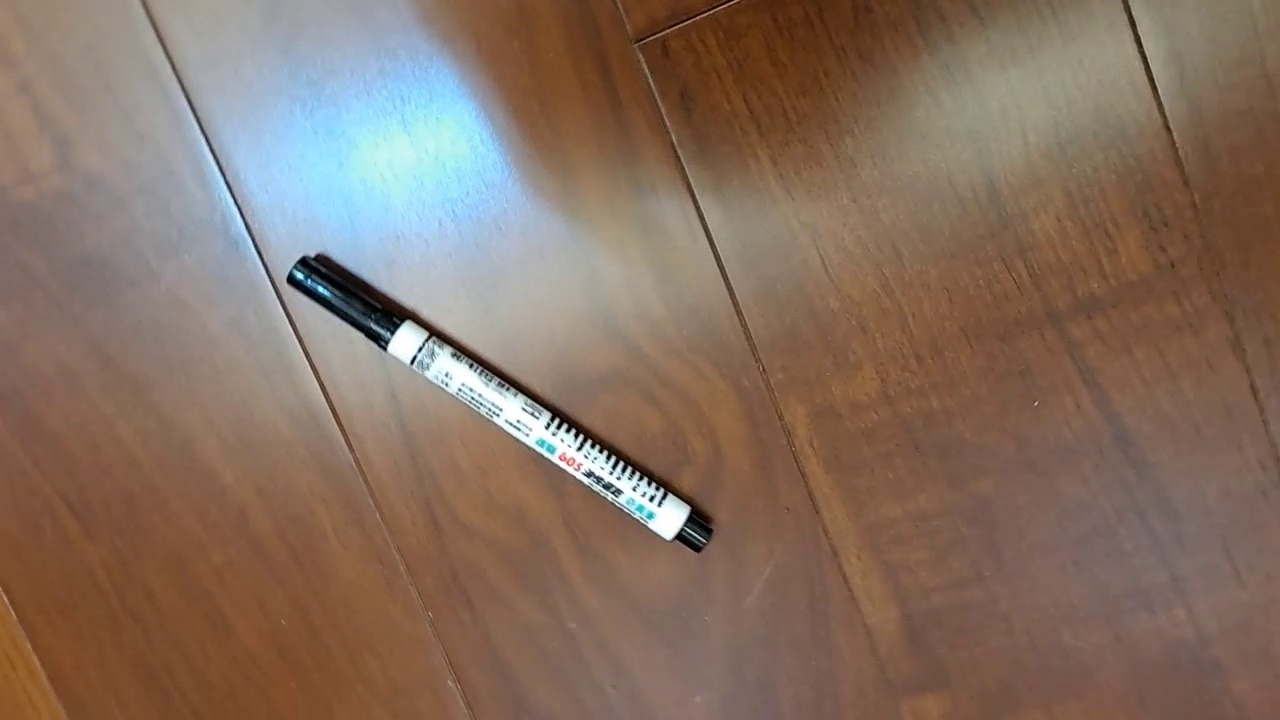pen: (285, 252, 715, 556)
